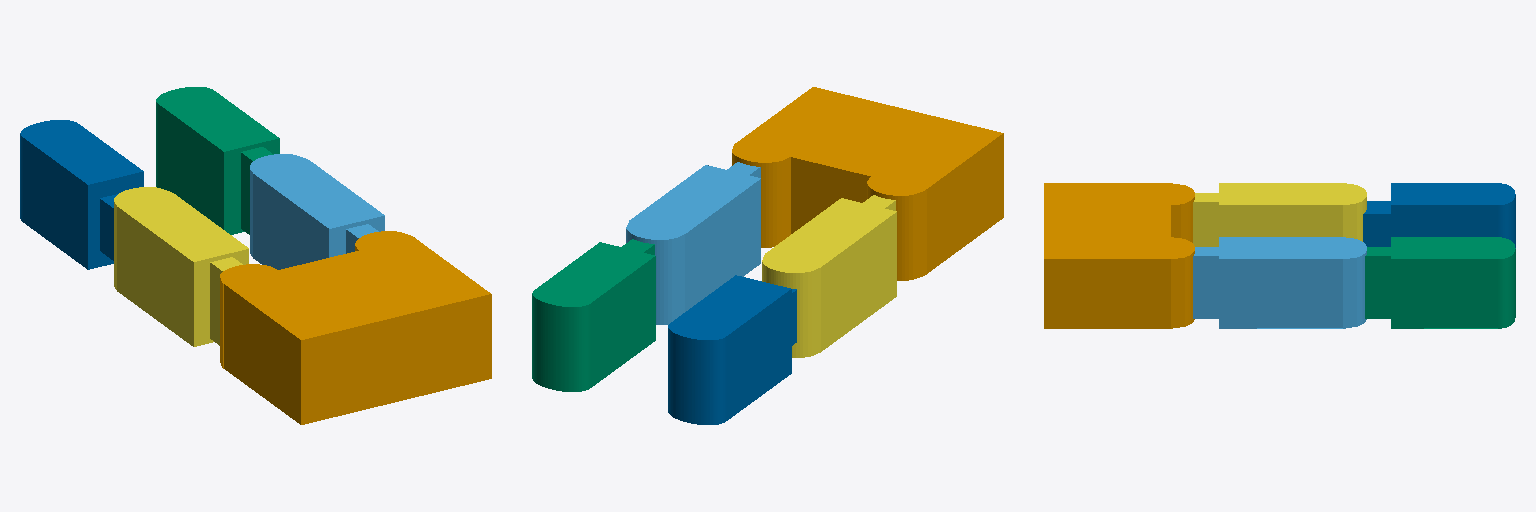
The robot description file, URDF, robot "2v2_Demo":
<?xml version="1.0" ?>
<robot name="2v2_Demo">

    <link name="palm">
        <visual>
            <origin rpy="0 0 0" xyz="0 0 0"/>
            <geometry>
                <mesh filename="obj_files/palm.obj" scale="1 1 1"/>
            </geometry>
        </visual>
        <collision>
            <geometry>
                <mesh filename="obj_files/palm_collision.obj" scale="1 1 1"/>
            </geometry>
        </collision>
    </link>

    <link name="finger0_segment0">
        <visual>
            <origin rpy="0 0 0" xyz="0 0 0"/>
            <geometry>
                <mesh filename="obj_files/finger0_segment0.obj" scale="1 1 1"/>
            </geometry>
        </visual>
        <collision>
            <geometry>
                <mesh filename="obj_files/finger0_segment0_collision.obj" scale="1 1 1"/>
            </geometry>
        </collision>
    </link>

    <joint name="finger0_segment0_joint" type="revolute">
        <parent link="palm"/>
        <child link="finger0_segment0"/>
        <origin rpy="0 0 0" xyz="0.02675 0 0.0"/>
        <axis xyz="0 0 1"/>
        <limit effort="1000.0" lower="-3.14" upper="3.14" velocity="0.5"/>
    </joint>

    <link name="finger0_segment1">
        <visual>
            <origin rpy="0 0 0" xyz="0 0 0"/>
            <geometry>
                <mesh filename="obj_files/finger0_segment1.obj" scale="1 1 1"/>
            </geometry>
        </visual>
        <collision>
            <geometry>
                <mesh filename="obj_files/finger0_segment1_collision.obj" scale="1 1 1"/>
            </geometry>
        </collision>
    </link>

    <joint name="finger0_segment1_joint" type="revolute">
        <parent link="finger0_segment0"/>
        <child link="finger0_segment1"/>
        <origin rpy="0 0 0" xyz="0 0.072 0"/>
        <axis xyz="0 0 1"/>
        <limit effort="1000.0" lower="-3.14" upper="3.14" velocity="0.5"/>
    </joint>

    <link name="finger1_segment0">
        <visual>
            <origin rpy="0 0 0" xyz="0 0 0"/>
            <geometry>
                <mesh filename="obj_files/finger1_segment0.obj" scale="1 1 1"/>
            </geometry>
        </visual>
        <collision>
            <geometry>
                <mesh filename="obj_files/finger1_segment0_collision.obj" scale="1 1 1"/>
            </geometry>
        </collision>
    </link>

    <joint name="finger1_segment0_joint" type="revolute">
        <parent link="palm"/>
        <child link="finger1_segment0"/>
        <origin rpy="0 0 0" xyz="-0.02675 0 3.27593018771917e-18"/>
        <axis xyz="0 0 1"/>
        <limit effort="1000.0" lower="-3.14" upper="3.14" velocity="0.5"/>
    </joint>

    <link name="finger1_segment1">
        <visual>
            <origin rpy="0 0 0" xyz="0 0 0"/>
            <geometry>
                <mesh filename="obj_files/finger1_segment1.obj" scale="1 1 1"/>
            </geometry>
        </visual>
        <collision>
            <geometry>
                <mesh filename="obj_files/finger1_segment1_collision.obj" scale="1 1 1"/>
            </geometry>
        </collision>
    </link>

    <joint name="finger1_segment1_joint" type="revolute">
        <parent link="finger1_segment0"/>
        <child link="finger1_segment1"/>
        <origin rpy="0 0 0" xyz="0 0.072 0"/>
        <axis xyz="0 0 1"/>
        <limit effort="1000.0" lower="-3.14" upper="3.14" velocity="0.5"/>
    </joint>

</robot>

--- Render facts (derived) ---
3 views of the same robot in one strip: view 1: azimuth 30°, elevation 25°; view 2: azimuth 150°, elevation 25°; view 3: azimuth 270°, elevation 25° (orthographic).
Robot: 2v2_Demo — 5 links, 4 joints (4 revolute); root link palm; default pose: every joint at zero.
Links seen in each view (by area): view 1: palm, finger1_segment0, finger1_segment1, finger0_segment1, finger0_segment0; view 2: palm, finger0_segment1, finger1_segment1, finger1_segment0, finger0_segment0; view 3: palm, finger0_segment0, finger0_segment1, finger1_segment0, finger1_segment1.
Boxes of the visible links, x1=… form: palm: x1=220, y1=231, x2=491, y2=424; finger1_segment0: x1=114, y1=187, x2=248, y2=346; finger1_segment1: x1=20, y1=120, x2=143, y2=269; finger0_segment1: x1=156, y1=87, x2=279, y2=234; finger0_segment0: x1=250, y1=154, x2=384, y2=269; palm: x1=732, y1=87, x2=1003, y2=280; finger0_segment1: x1=532, y1=239, x2=655, y2=391; finger1_segment1: x1=668, y1=275, x2=796, y2=424; finger1_segment0: x1=762, y1=195, x2=896, y2=357; finger0_segment0: x1=626, y1=162, x2=760, y2=324; palm: x1=1044, y1=183, x2=1194, y2=328; finger0_segment0: x1=1193, y1=237, x2=1366, y2=328; finger0_segment1: x1=1365, y1=237, x2=1515, y2=328; finger1_segment0: x1=1193, y1=183, x2=1366, y2=246; finger1_segment1: x1=1363, y1=183, x2=1515, y2=247.
Size in the robot's own frame: 0.0755 by 0.197 by 0.032 metres.
5 mesh visuals loaded from 5 distinct referenced files (5 OBJ).